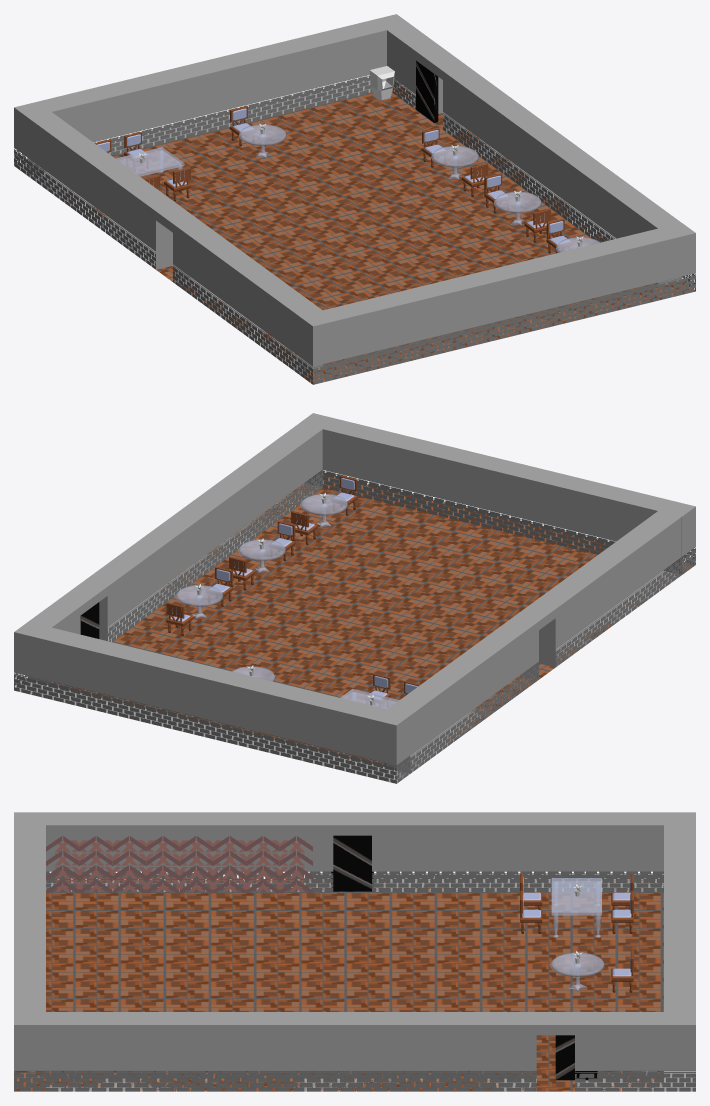
Rendered from cafeteria.fbx.
3 renders of one model, top to bottom at view 1: azimuth 30°, elevation 25°; view 2: azimuth 150°, elevation 25°; view 3: azimuth 270°, elevation 25°, orthographic. The views are drawn at different scales.
Parts seen in each view (by area): view 1: Plane, parede front, Cube.005, Cube.004, parede right, Cube.008, Cube.054, Circle, Circle.003, Circle.002, Cube.052; view 2: Plane, Cube.005, parede front, Cube.004, parede right, Circle.003, Circle.002, Circle.004, Cube.008, Cube.054; view 3: Plane, parede right, Cube.004, Cube.005, parede front, Plane.004, Plane.005, Cube.053, Cube.008, Circle, Cube.054.
Part boxes in pixels (x1,y1,x2,y2): Plane: (44, 85, 695, 384); parede front: (299, 223, 695, 384); Cube.005: (14, 14, 410, 175); Cube.004: (27, 112, 323, 374); parede right: (387, 24, 681, 284); Cube.008: (115, 147, 184, 176); Cube.054: (416, 60, 438, 122); Circle: (239, 124, 286, 158); Circle.003: (431, 146, 479, 179); Circle.002: (494, 191, 541, 225); Cube.052: (369, 66, 394, 100); Plane: (55, 474, 693, 766); Cube.005: (14, 622, 410, 783); parede front: (299, 413, 695, 574); Cube.004: (386, 510, 682, 773); parede right: (28, 423, 322, 684); Circle.003: (175, 585, 223, 619); Circle.002: (238, 539, 285, 573); Circle.004: (300, 494, 348, 527); Cube.008: (340, 688, 399, 709); Cube.054: (80, 602, 99, 638); Plane: (14, 879, 663, 1091); parede right: (46, 1012, 663, 1091); Cube.004: (45, 812, 663, 891); Cube.005: (664, 812, 695, 1091); parede front: (14, 812, 45, 1091); Plane.004: (54, 840, 304, 891); Plane.005: (46, 836, 313, 893); Cube.053: (331, 835, 373, 891); Cube.008: (551, 878, 601, 937); Circle: (550, 952, 604, 991); Cube.054: (555, 1035, 597, 1080).
Size of the model in its own units: 2449 by 368 by 3315.
